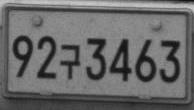2: (36, 35, 56, 79)
3: (158, 39, 181, 83), (85, 37, 106, 80)
4: (109, 38, 132, 81)
6: (134, 38, 157, 82)
9: (11, 33, 33, 78)
구: (59, 44, 81, 79)
